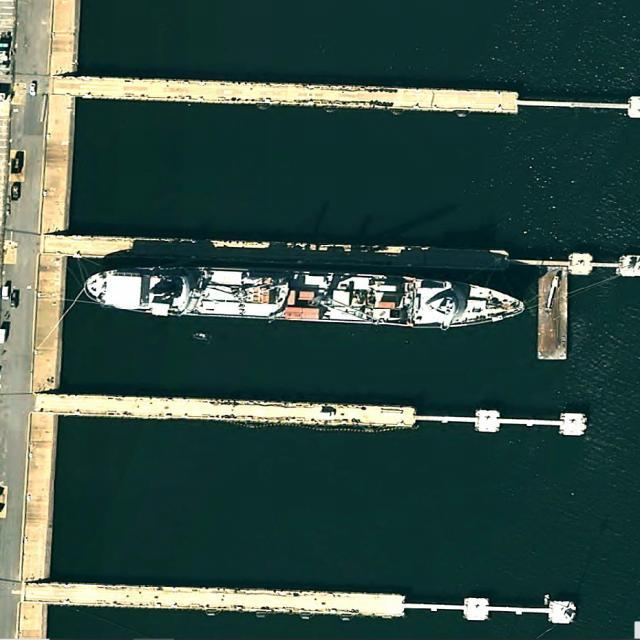Cargo: (81, 256, 526, 334)
Dock: (76, 76, 518, 112), (65, 235, 507, 268), (58, 392, 415, 427), (50, 584, 404, 615)
